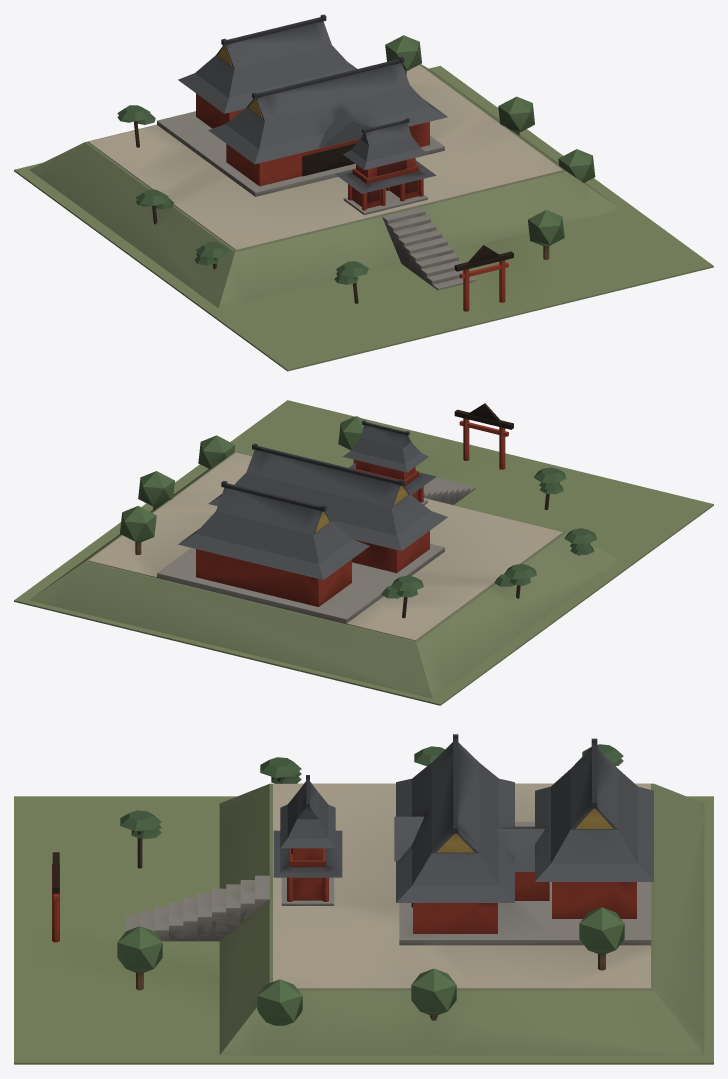
The model's file is hie-shrine.glb.
The picture shows the model from 3 angles, top to bottom: view 1: azimuth 30°, elevation 25°; view 2: azimuth 150°, elevation 25°; view 3: azimuth 270°, elevation 25°; orthographic projection. The views are drawn at different scales.
Visible parts, largest first — view 1: p0_hill, p2_shrine, p1_Sanno torii; view 2: p0_hill, p2_shrine, p1_Sanno torii; view 3: p0_hill, p2_shrine, p1_Sanno torii.
Part boxes in pixels (x1,y1,x2,y2): p0_hill: (14, 64, 713, 371); p2_shrine: (117, 14, 595, 303); p1_Sanno torii: (335, 118, 513, 311); p0_hill: (14, 400, 713, 705); p2_shrine: (120, 416, 596, 624); p1_Sanno torii: (343, 403, 513, 505); p0_hill: (14, 783, 713, 1064); p2_shrine: (117, 734, 653, 1025); p1_Sanno torii: (52, 775, 342, 942).
Size of the model in its own units: 90 by 25.37 by 100.
